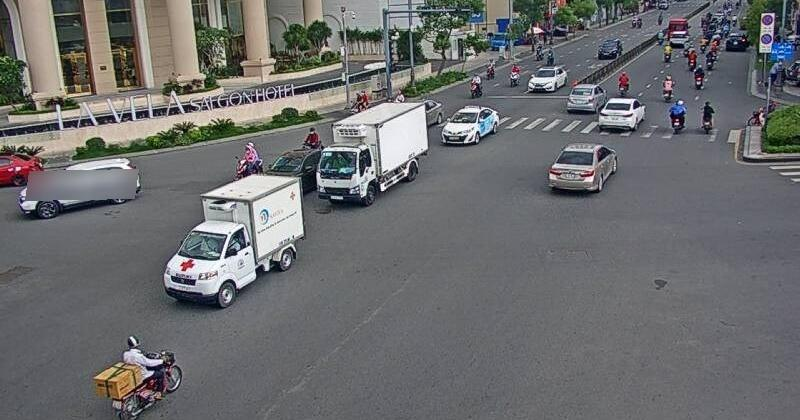xe hoi: (19, 158, 142, 218), (544, 144, 614, 195), (442, 102, 496, 147), (597, 96, 645, 134)
xe may: (95, 335, 183, 420), (668, 96, 687, 133), (698, 100, 716, 133)
xe tai: (160, 175, 313, 307), (313, 103, 426, 208)
